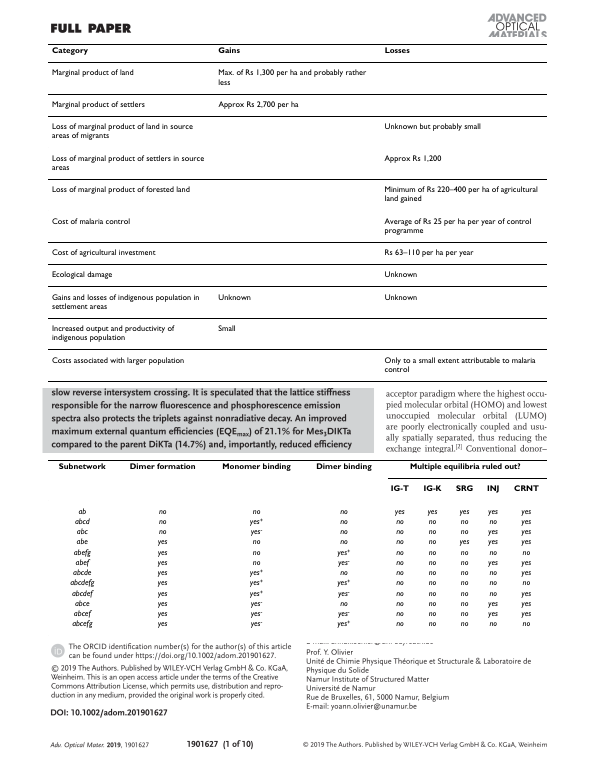borderless: (47, 42, 547, 381), (46, 458, 548, 637)
cell: (50, 154, 205, 173), (383, 185, 538, 204), (383, 356, 536, 375), (217, 69, 367, 88), (50, 293, 200, 312), (383, 217, 532, 236), (50, 122, 193, 141), (50, 324, 175, 343), (50, 185, 190, 195), (50, 356, 185, 366), (50, 248, 156, 258), (408, 463, 521, 472), (383, 122, 481, 132), (50, 100, 145, 110), (383, 248, 474, 258), (217, 100, 299, 110), (50, 217, 131, 227), (50, 69, 134, 78), (221, 463, 291, 472), (128, 463, 196, 472), (383, 154, 442, 164), (50, 271, 113, 280), (315, 463, 372, 472), (57, 463, 106, 472), (383, 293, 418, 303), (50, 47, 88, 56), (217, 293, 251, 303), (383, 271, 418, 280), (383, 47, 410, 56), (513, 485, 539, 494), (69, 579, 95, 588), (70, 589, 93, 599), (217, 47, 240, 56), (71, 620, 93, 629), (217, 324, 236, 334), (72, 548, 91, 558), (389, 485, 409, 494), (422, 485, 442, 494), (454, 485, 474, 494), (72, 569, 92, 578), (72, 610, 91, 619), (73, 517, 90, 527), (73, 599, 90, 609), (74, 558, 90, 568), (249, 517, 264, 527), (336, 548, 351, 558), (249, 589, 264, 599), (249, 599, 263, 609), (485, 485, 500, 494), (249, 569, 264, 578), (249, 579, 264, 588), (336, 579, 351, 588), (336, 620, 351, 629), (337, 558, 350, 568), (337, 589, 350, 599), (249, 528, 263, 537), (249, 610, 263, 619), (249, 620, 263, 629), (426, 507, 438, 517), (458, 507, 470, 517), (520, 507, 532, 517), (520, 517, 532, 527), (156, 548, 168, 558), (156, 558, 168, 568), (520, 558, 532, 568), (156, 589, 168, 599), (520, 589, 532, 599), (156, 599, 168, 609), (520, 599, 532, 609), (75, 528, 88, 537), (75, 538, 88, 547), (337, 610, 350, 619), (394, 507, 405, 517), (487, 507, 498, 517), (487, 558, 498, 568), (487, 599, 498, 609), (520, 528, 532, 537), (156, 538, 168, 547), (458, 538, 470, 547), (520, 538, 532, 547), (156, 569, 168, 578), (520, 569, 532, 578), (156, 579, 168, 588), (156, 610, 168, 619), (520, 610, 532, 619), (156, 620, 168, 629), (77, 507, 87, 517), (157, 507, 167, 517), (251, 507, 261, 517), (157, 517, 167, 527), (427, 517, 437, 527), (459, 517, 469, 527), (251, 548, 261, 558), (427, 548, 437, 558), (459, 548, 469, 558), (521, 548, 531, 558), (251, 558, 261, 568), (427, 558, 437, 568), (459, 558, 469, 568), (427, 589, 437, 599), (459, 589, 469, 599), (427, 599, 437, 609), (459, 599, 469, 609), (487, 528, 498, 537), (487, 538, 498, 547), (487, 610, 498, 619), (339, 507, 348, 517), (339, 517, 348, 527), (395, 517, 404, 527), (488, 517, 497, 527), (157, 528, 167, 537), (427, 528, 437, 537), (459, 528, 469, 537), (251, 538, 261, 547), (427, 538, 437, 547), (395, 548, 404, 558), (488, 548, 497, 558), (395, 558, 404, 568), (427, 569, 437, 578), (459, 569, 469, 578), (427, 579, 437, 588), (459, 579, 469, 588), (521, 579, 531, 588), (395, 589, 404, 599), (488, 589, 497, 599), (339, 599, 348, 609), (395, 599, 404, 609), (427, 610, 437, 619), (459, 610, 469, 619), (427, 620, 437, 629), (459, 620, 469, 629), (521, 620, 531, 629), (339, 528, 348, 537), (395, 528, 404, 537), (339, 538, 348, 547), (395, 538, 404, 547), (339, 569, 348, 578), (395, 569, 404, 578), (488, 569, 497, 578), (395, 579, 404, 588), (488, 579, 497, 588), (395, 610, 404, 619), (395, 620, 404, 629), (488, 620, 497, 629)
